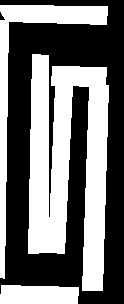parkingspot: (82, 85, 108, 290), (48, 86, 72, 253), (28, 54, 48, 253), (0, 20, 8, 278), (0, 5, 107, 24), (0, 285, 78, 304), (51, 66, 106, 86)
